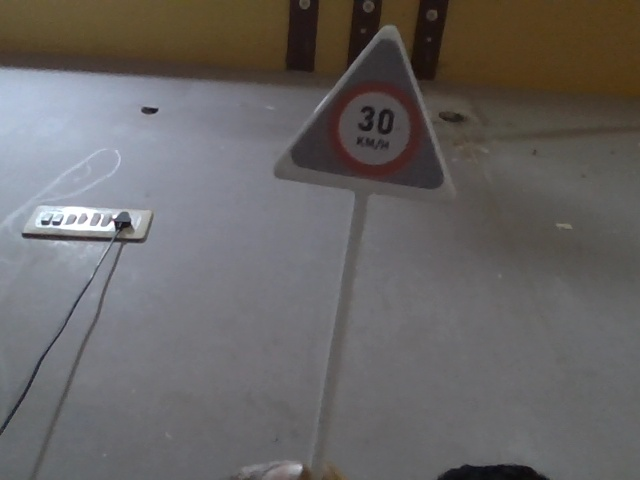speedlimit: (293, 23, 451, 225)
